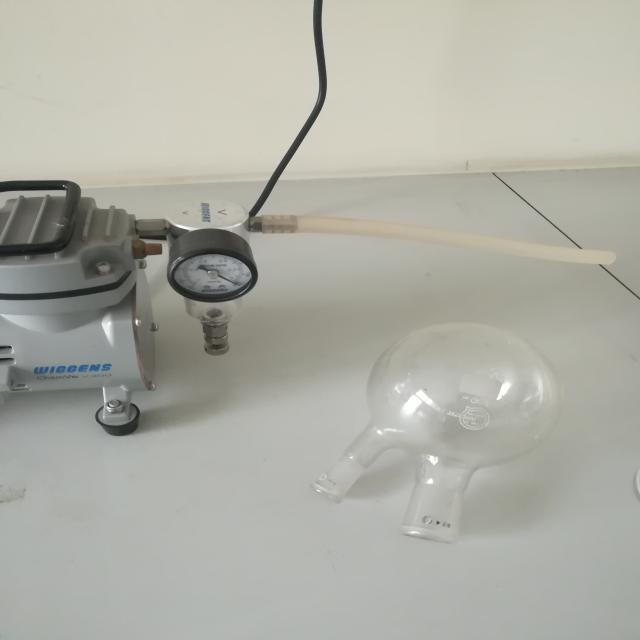Round_Bottom_Flask_Borosilicate_Glass_2_Neck: (295, 280, 576, 570)
